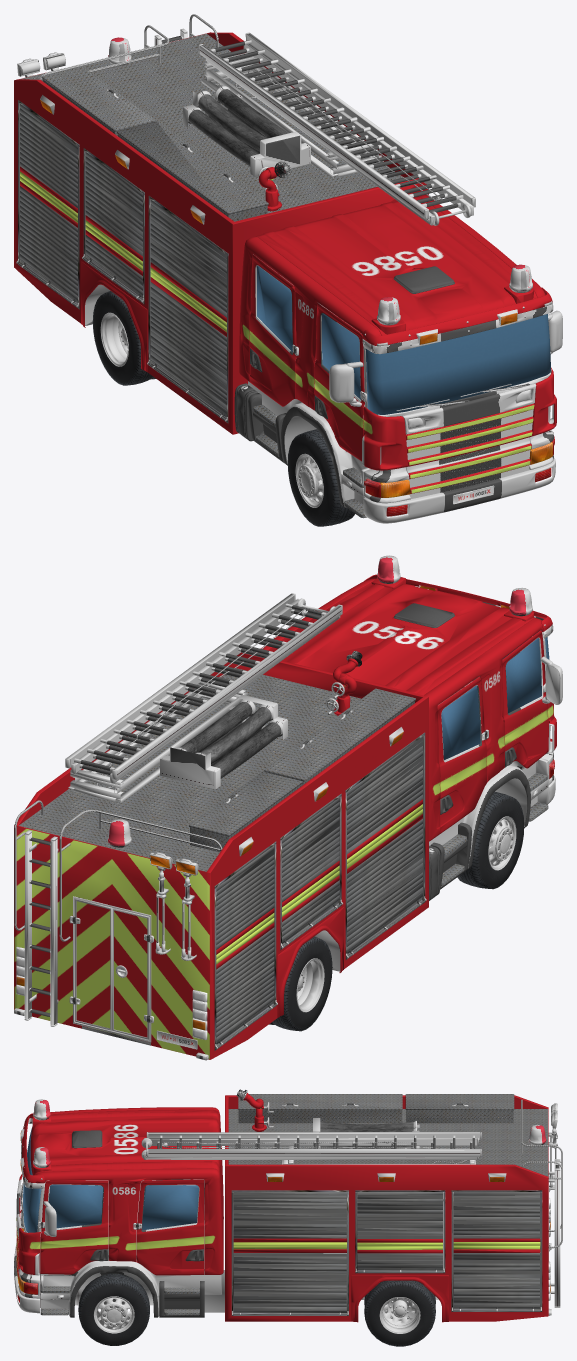
The model's file is GroundVehicle.glb.
The picture shows the model from 3 angles, top to bottom: view 1: azimuth 30°, elevation 25°; view 2: azimuth 150°, elevation 25°; view 3: azimuth 270°, elevation 25°; orthographic projection. The views are drawn at different scales.
Size of the model in its own units: 295 by 345 by 819.
Materials: 15 (14 with a texture image).
